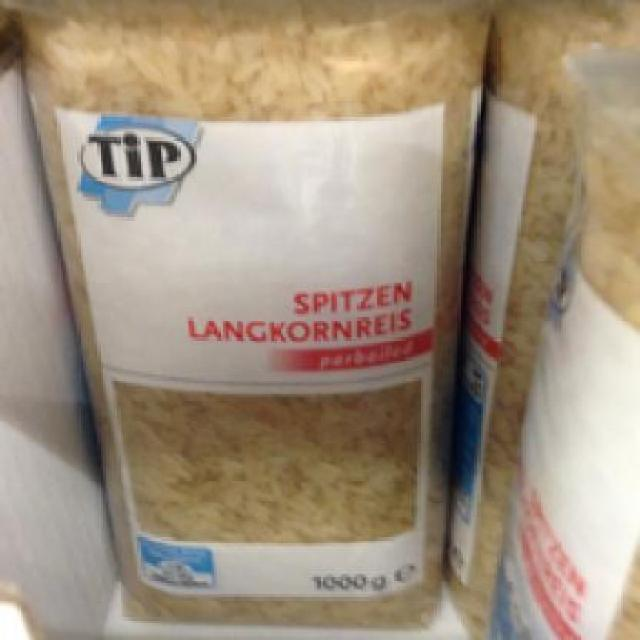Rice: (8, 0, 484, 626)
